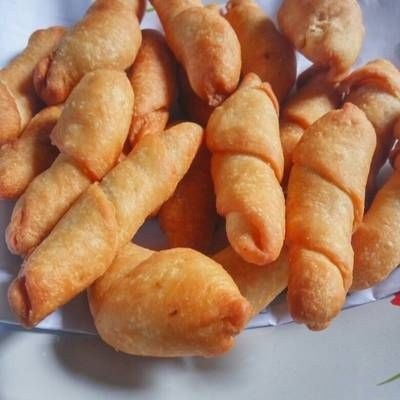pisang_molen: (10, 121, 204, 330), (5, 67, 139, 254), (286, 101, 377, 331), (206, 74, 283, 265)
